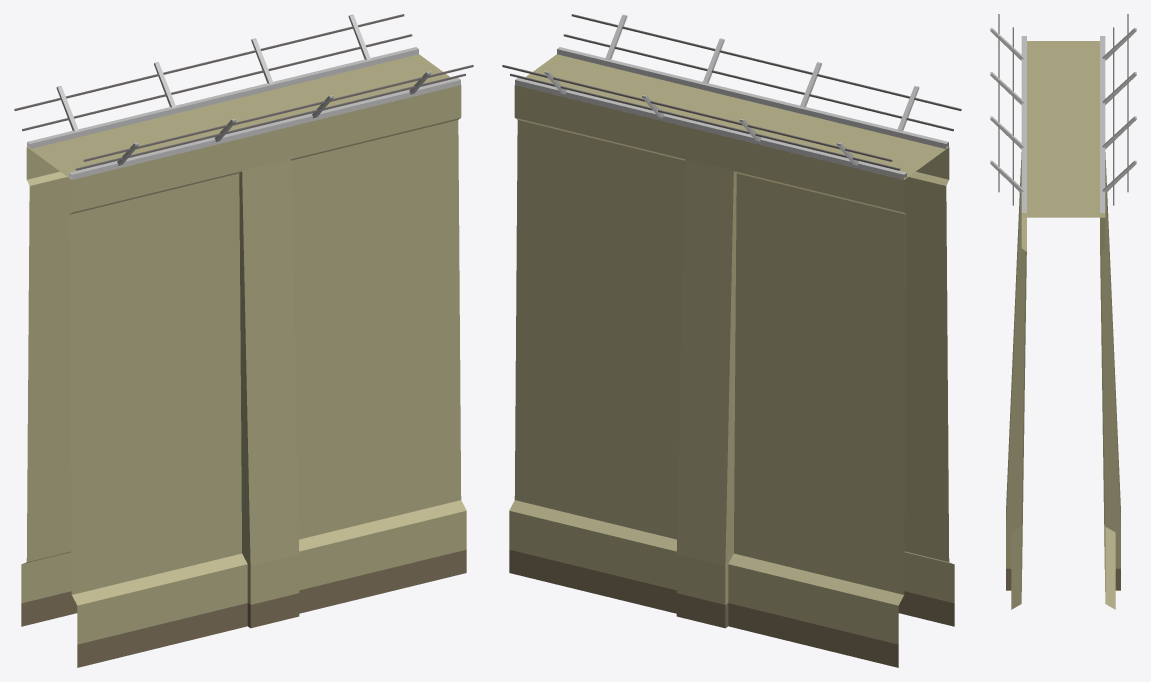
Rendered from SM_Wall_Big_A_800.FBX.
3 views of the same model, side by side, from view 1: azimuth 30°, elevation 25°; view 2: azimuth 150°, elevation 25°; view 3: azimuth 270°, elevation 25° (orthographic). The views are drawn at different scales.
Parts seen in each view (by area): view 1: SM_Wall_Big_A_800; view 2: SM_Wall_Big_A_800; view 3: SM_Wall_Big_A_800.
Boxes of the visible parts, x1,y1,x2,y2 form: SM_Wall_Big_A_800: (14, 14, 473, 667); SM_Wall_Big_A_800: (502, 14, 961, 667); SM_Wall_Big_A_800: (990, 14, 1136, 609).
Size of the model in its own units: 800 by 279 by 1022.
